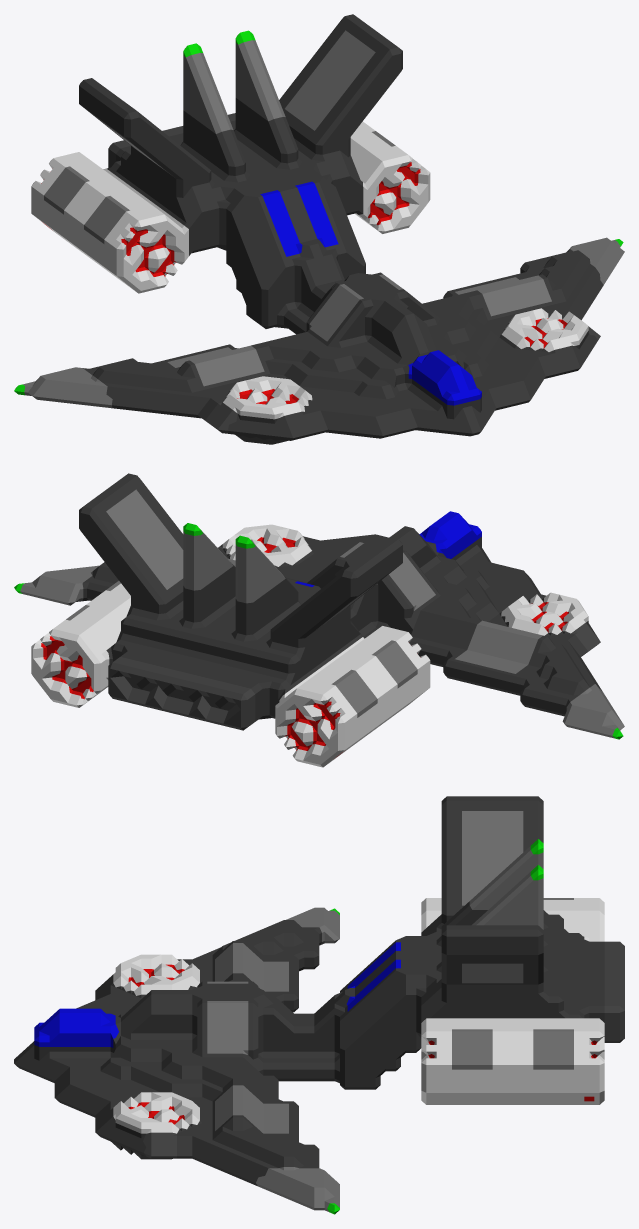
Rendered from JustinsShip.fbx.
3 views of the same model, one above another, from view 1: azimuth 30°, elevation 25°; view 2: azimuth 150°, elevation 25°; view 3: azimuth 270°, elevation 25° (orthographic).
Parts seen in each view (by area): view 1: Ship2.mc; view 2: Ship2.mc; view 3: Ship2.mc.
Part boxes in pixels (box(x1,y1,x2,y2)): Ship2.mc: box(14, 14, 624, 444); Ship2.mc: box(14, 473, 624, 767); Ship2.mc: box(14, 796, 624, 1214).
Bounding box in the file's own units: 7000 × 2400 × 6000.
